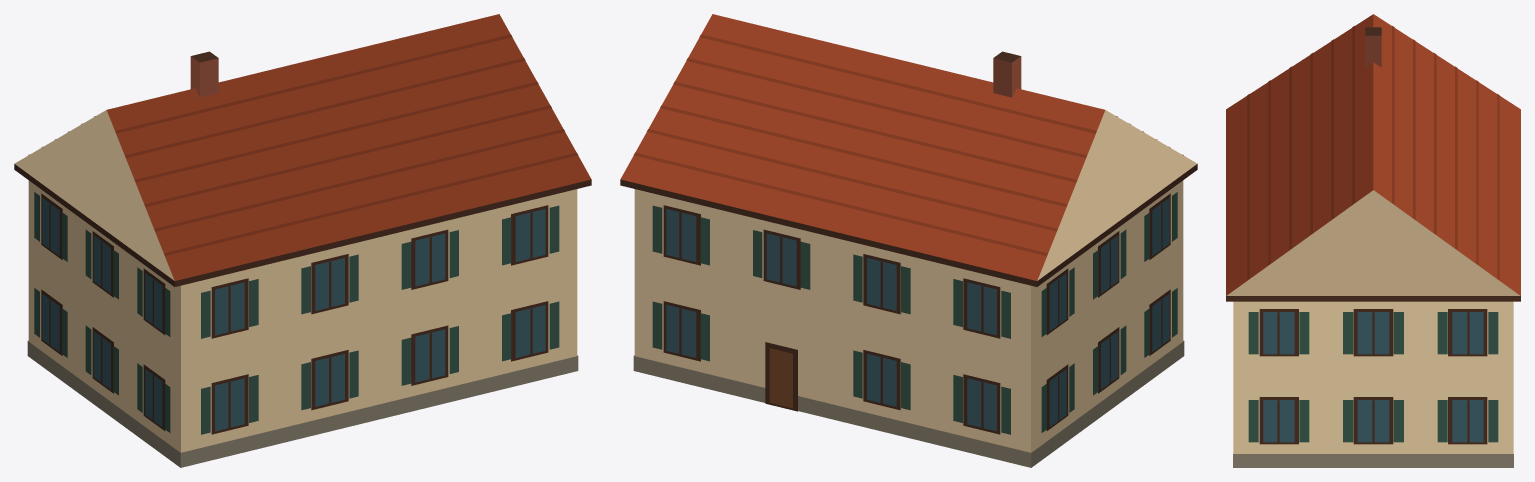
Rendered from house-shuttered-gable.glb.
3 renders of one model, left to right at view 1: azimuth 30°, elevation 25°; view 2: azimuth 150°, elevation 25°; view 3: azimuth 270°, elevation 25°, orthographic. The views are drawn at different scales.
Parts seen in each view (by area): view 1: House Shuttered gable; view 2: House Shuttered gable; view 3: House Shuttered gable.
Boxes of the visible parts, left/top/right/bottom form: House Shuttered gable: left=14, top=14, right=591, bottom=467; House Shuttered gable: left=620, top=14, right=1197, bottom=467; House Shuttered gable: left=1226, top=14, right=1520, bottom=467.
Size of the model in its own units: 15.92 by 12.05 by 10.61.
